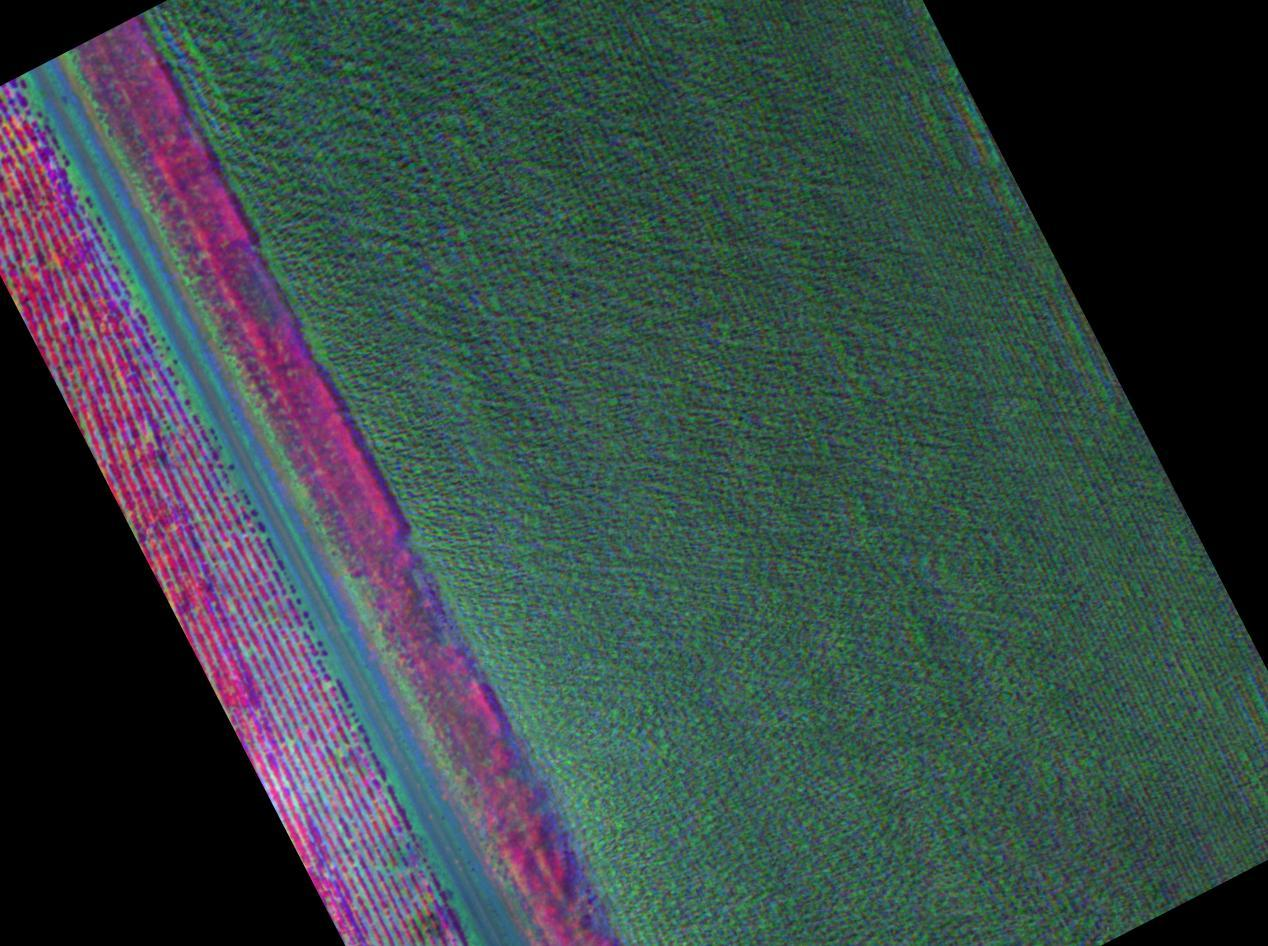dc: (391, 860, 475, 946)
